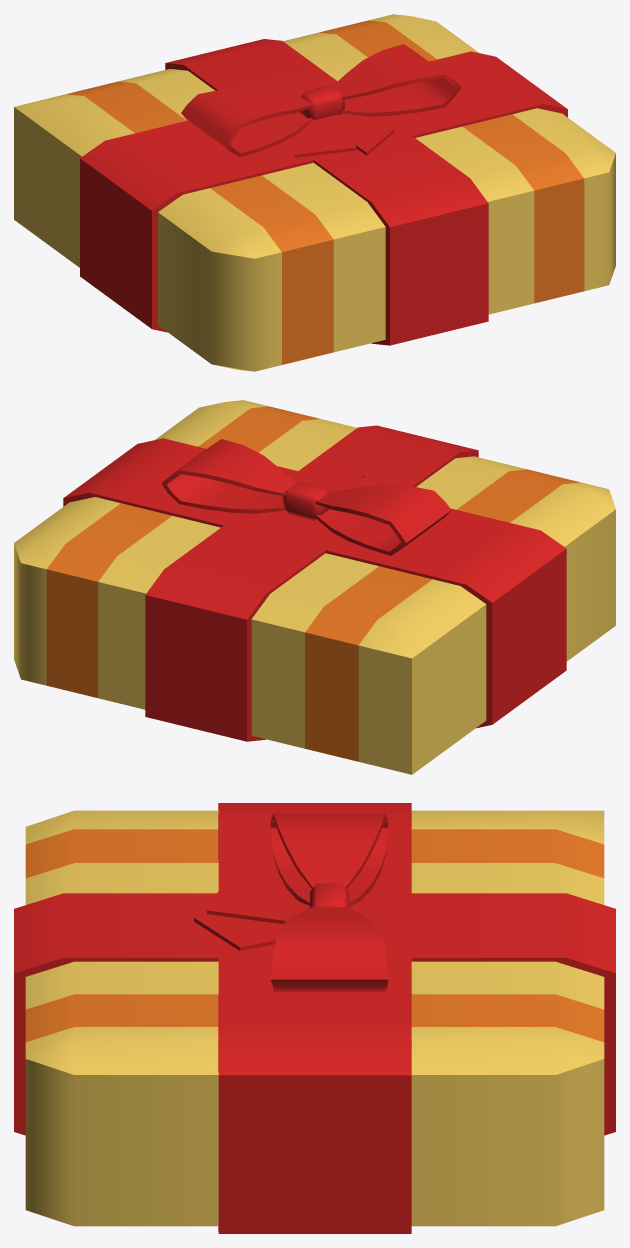
The model's file is Gift_33_231109.glb.
3 renders of one model, top to bottom at view 1: azimuth 30°, elevation 25°; view 2: azimuth 150°, elevation 25°; view 3: azimuth 270°, elevation 25°, orthographic. The views are drawn at different scales.
Parts seen in each view (by area): view 1: Gift_33; view 2: Gift_33; view 3: Gift_33.
Part boxes in pixels (left/top/right/bottom): Gift_33: left=14, top=14, right=615, bottom=371; Gift_33: left=14, top=400, right=615, bottom=774; Gift_33: left=14, top=803, right=615, bottom=1233.
Size of the model in its own units: 0.7127 by 0.2869 by 0.666.
1 material, 1 textured.
